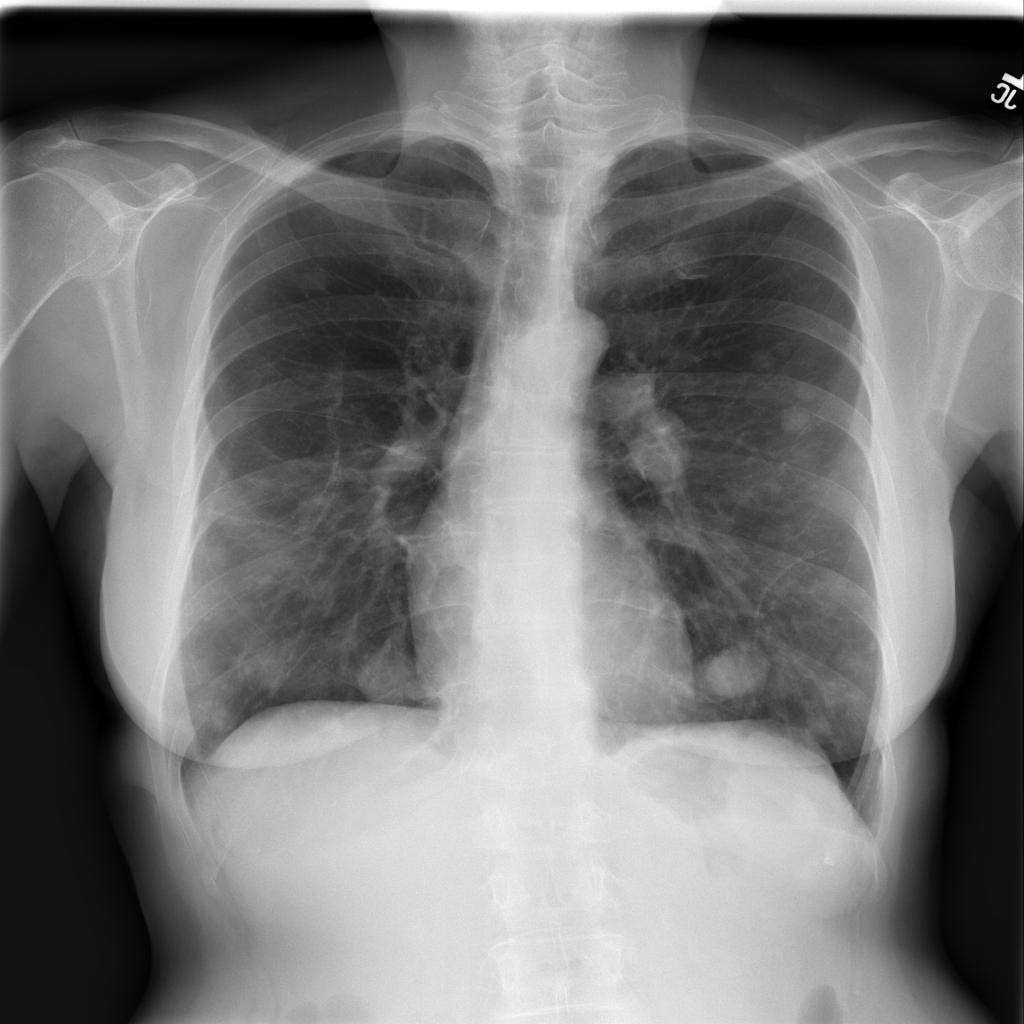nodule: (332, 626, 438, 729), (683, 618, 784, 722), (798, 555, 866, 625), (767, 397, 825, 443), (742, 336, 796, 383)
